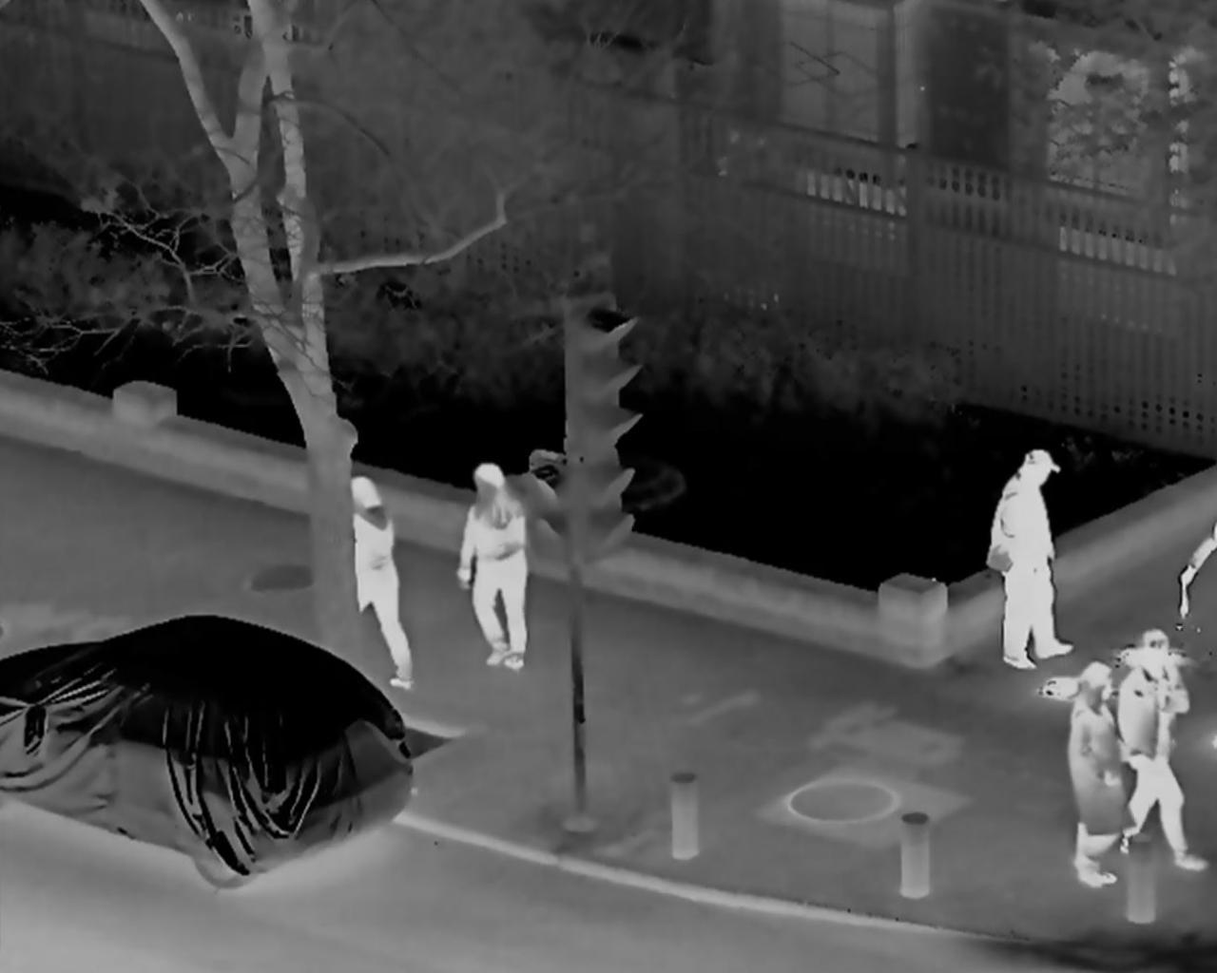person: (1116, 633, 1200, 873), (988, 448, 1071, 677), (332, 470, 415, 689), (456, 460, 528, 671), (1070, 665, 1121, 890)
